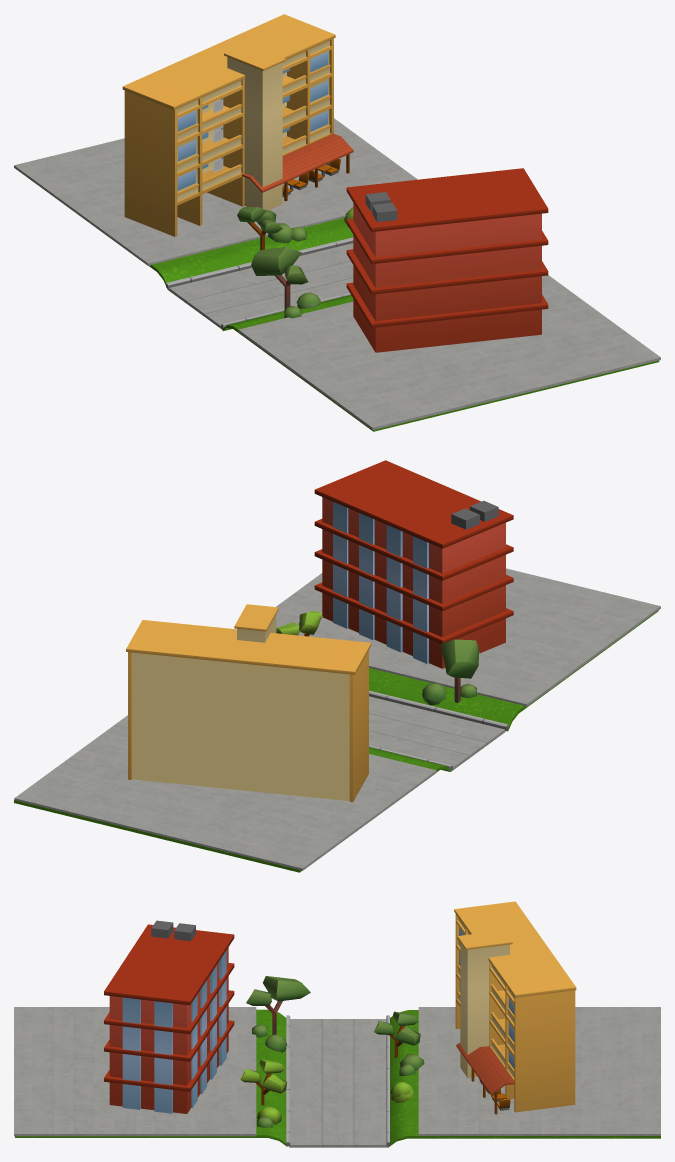
File: Level 1 Chunk 5 V3.fbx
3 views of the same model, one above another, from view 1: azimuth 30°, elevation 25°; view 2: azimuth 150°, elevation 25°; view 3: azimuth 270°, elevation 25° (orthographic). The views are drawn at different scales.
Parts seen in each view (by area): view 1: polySurface1206, pCube15742, pCube13916, pCube13917, pCube13918, pCube13912, pCube13904, polySurface57, pCube13910, pCube13915; view 2: polySurface1206, pCube15742, pCube13917, pCube13916, pCube13918, pCube13904, pCube13912, polySurface57, pCube13908, pCube13913; view 3: polySurface1206, pCube13917, pCube15742, pCube13916, pCube13918, pCube13912, pCube13904, polySurface57, pCube13910, pCube13913, pCube13908, pCube13915.
Part boxes in pixels (x1=…): polySurface1206: x1=122, y1=14, x2=353, y2=236; pCube15742: x1=346, y1=168, x2=548, y2=352; pCube13916: x1=238, y1=275, x2=660, y2=430; pCube13917: x1=14, y1=118, x2=417, y2=265; pCube13918: x1=167, y1=243, x2=353, y2=329; pCube13912: x1=149, y1=217, x2=353, y2=288; pCube13904: x1=222, y1=295, x2=659, y2=431; polySurface57: x1=251, y1=246, x2=307, y2=309; pCube13910: x1=237, y1=207, x2=282, y2=250; pCube13915: x1=166, y1=237, x2=353, y2=288; polySurface1206: x1=126, y1=604, x2=371, y2=802; pCube15742: x1=314, y1=460, x2=513, y2=668; pCube13917: x1=14, y1=715, x2=436, y2=870; pCube13916: x1=276, y1=568, x2=660, y2=706; pCube13918: x1=369, y1=696, x2=505, y2=771; pCube13904: x1=369, y1=610, x2=658, y2=731; pCube13912: x1=14, y1=747, x2=450, y2=872; polySurface57: x1=440, y1=639, x2=479, y2=702; pCube13908: x1=369, y1=690, x2=508, y2=729; pCube13913: x1=276, y1=610, x2=322, y2=636; polySurface1206: x1=454, y1=901, x2=576, y2=1114; pCube13917: x1=418, y1=1007, x2=660, y2=1135; pCube15742: x1=104, y1=920, x2=234, y2=1113; pCube13916: x1=14, y1=1007, x2=256, y2=1136; pCube13918: x1=289, y1=1019, x2=388, y2=1147; pCube13912: x1=388, y1=1010, x2=660, y2=1147; pCube13904: x1=15, y1=1009, x2=287, y2=1146; polySurface57: x1=246, y1=976, x2=310, y2=1034; pCube13910: x1=374, y1=1011, x2=420, y2=1058; pCube13913: x1=240, y1=1059, x2=287, y2=1105; pCube13908: x1=286, y1=1015, x2=290, y2=1146; pCube13915: x1=386, y1=1015, x2=389, y2=1146.
Size of the model in its own units: 12.43 by 6.56 by 26.6.
Materials: 2 (2 with a texture image).
